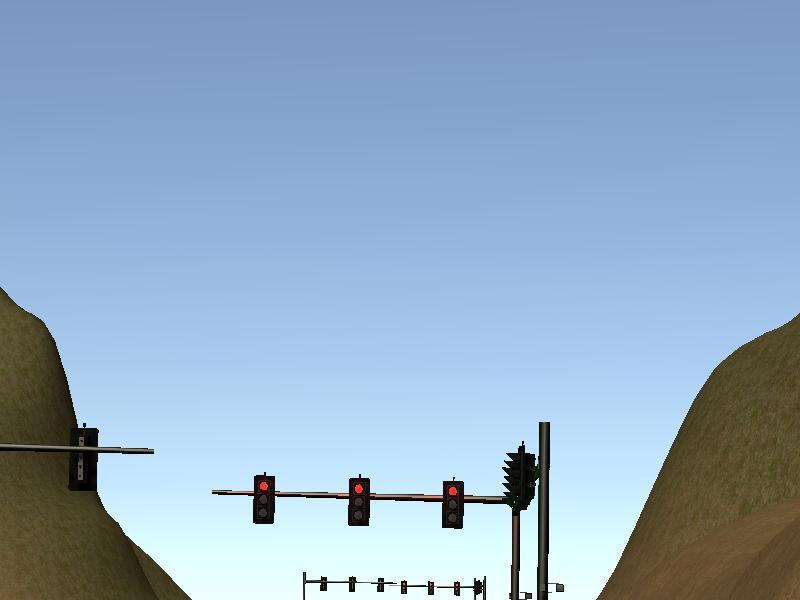Red: (253, 471, 275, 525), (350, 477, 370, 525), (445, 480, 463, 528)
